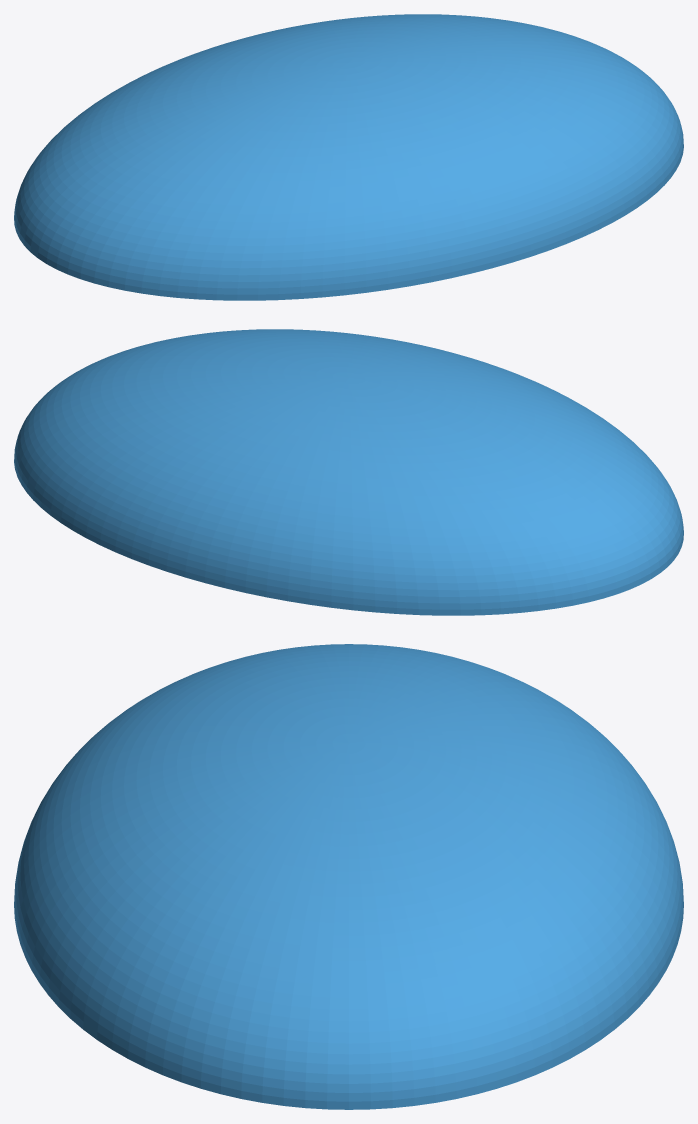
The model's file is Sage_1212.fbx.
3 views of the same model, one above another, from view 1: azimuth 30°, elevation 25°; view 2: azimuth 150°, elevation 25°; view 3: azimuth 270°, elevation 25° (orthographic). The views are drawn at different scales.
Visible parts, largest first — view 1: SKY_DOME; view 2: SKY_DOME; view 3: SKY_DOME.
Part boxes in pixels (box(x1,y1,x2,y2)): SKY_DOME: box(14, 14, 683, 300); SKY_DOME: box(14, 329, 683, 615); SKY_DOME: box(14, 644, 683, 1109).
Bounding box in the file's own units: 507496 × 93190 × 350491.
